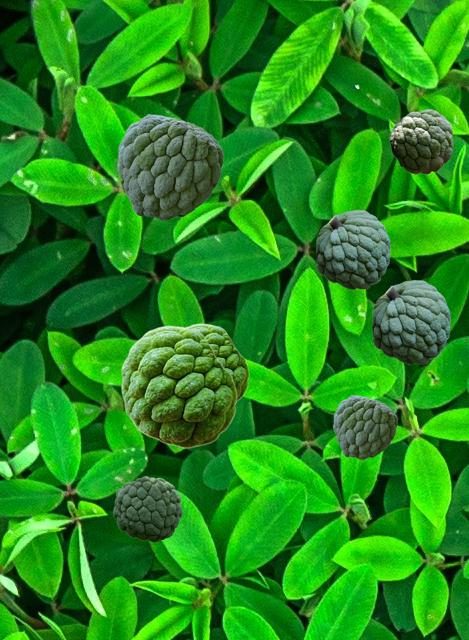atis: (121, 325, 236, 447), (117, 114, 222, 219), (372, 280, 449, 363), (316, 210, 389, 288), (186, 323, 248, 404), (113, 476, 181, 541), (389, 109, 452, 173), (333, 395, 396, 458)
